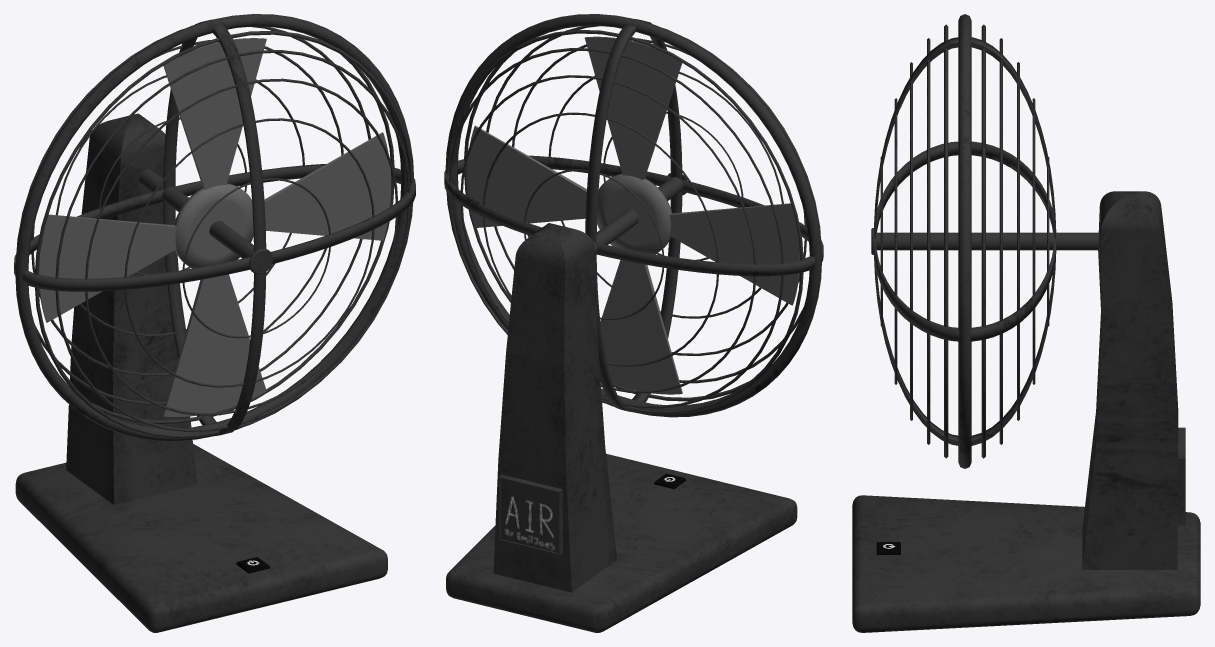
Rendered from fnaf_desk_fan.glb.
3 views of the same model, side by side, from view 1: azimuth 30°, elevation 25°; view 2: azimuth 150°, elevation 25°; view 3: azimuth 270°, elevation 25° (orthographic). The views are drawn at different scales.
Visible parts, largest first — view 1: Base, Fan; view 2: Base, Fan; view 3: Base, Fan.
Part boxes in pixels (left/top/right/bottom): Base: left=14, top=14, right=415, bottom=632; Fan: left=38, top=38, right=391, bottom=416; Base: left=444, top=14, right=823, bottom=632; Fan: left=467, top=36, right=799, bottom=394; Base: left=852, top=14, right=1200, bottom=632; Fan: left=876, top=232, right=1098, bottom=250.
Bounding box in the file's own units: 1.31 × 1.72 × 0.9997.
Materials: 1 (1 with a texture image).
